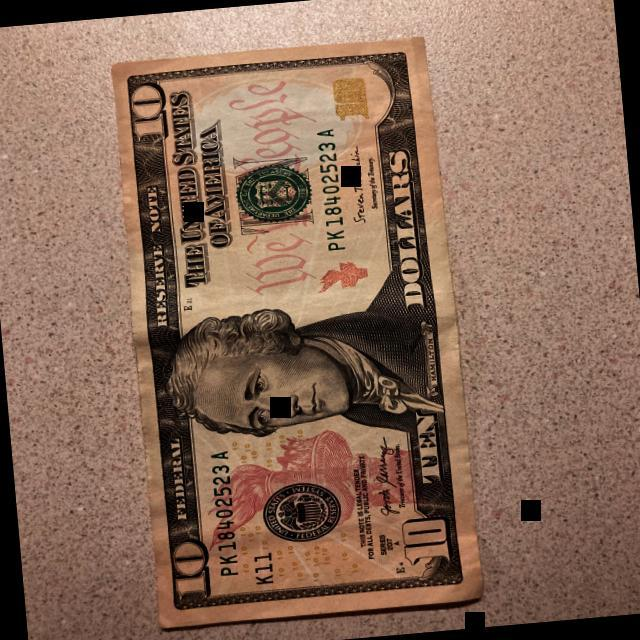ten: (104, 31, 486, 632)
